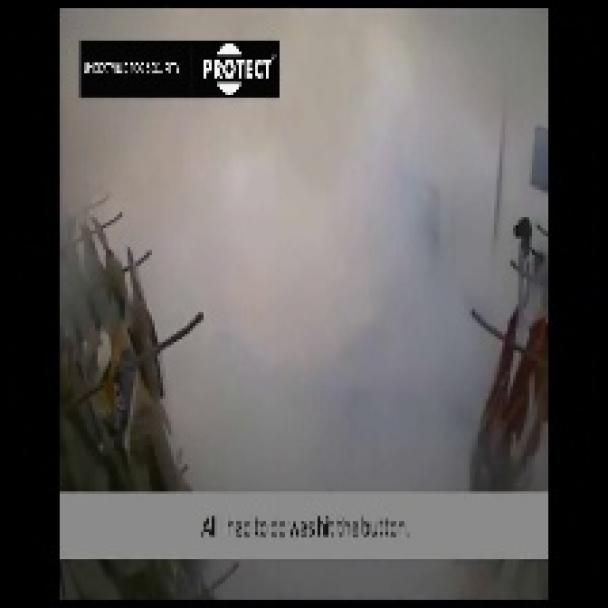smoke: (170, 5, 508, 479)
